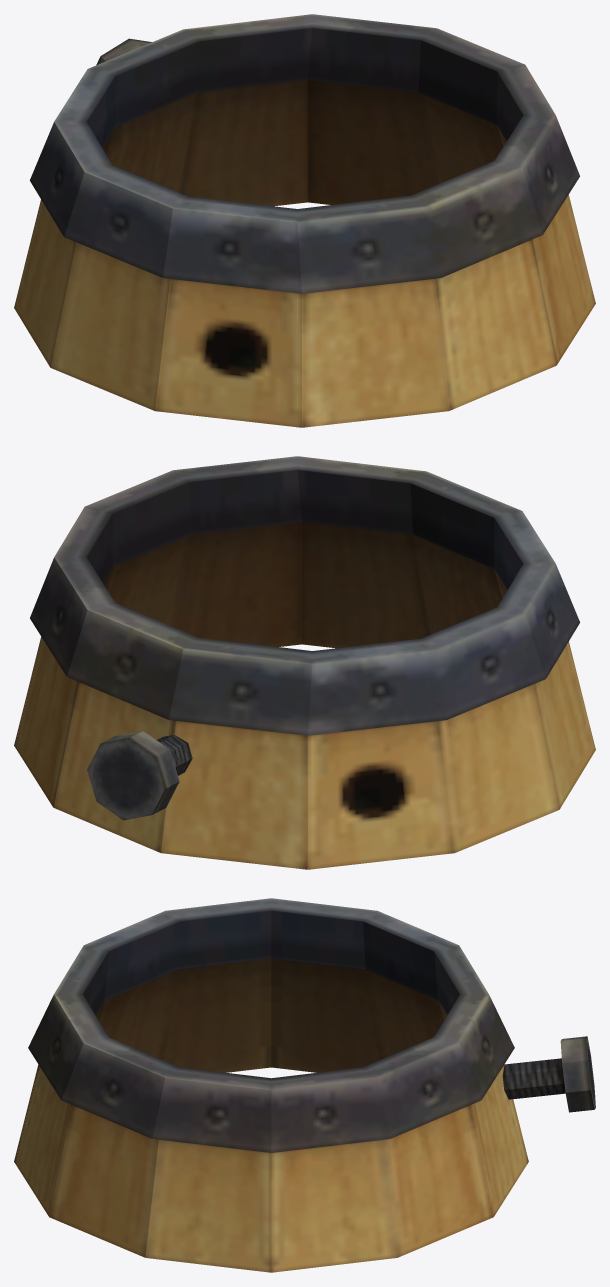
The model's file is Mole_barrelHelmet.obj.
3 renders of one model, top to bottom at view 1: azimuth 30°, elevation 25°; view 2: azimuth 150°, elevation 25°; view 3: azimuth 270°, elevation 25°, orthographic. The views are drawn at different scales.
Visible parts, largest first — view 1: Mole_barrelHelmet_tri; view 2: Mole_barrelHelmet_tri; view 3: Mole_barrelHelmet_tri.
Part boxes in pixels (x1,y1,x2,y2): Mole_barrelHelmet_tri: (14, 14, 595, 427); Mole_barrelHelmet_tri: (14, 456, 595, 869); Mole_barrelHelmet_tri: (14, 898, 595, 1272).
Size of the model in its own units: 0.5024 by 0.1827 by 0.5565.
Materials: 1 (1 with a texture image).
